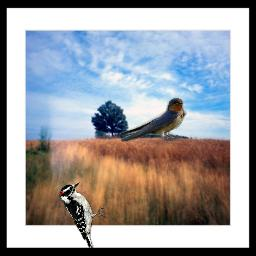Swallow: (108, 97, 187, 142)
Woodpecker: (59, 182, 107, 248)
